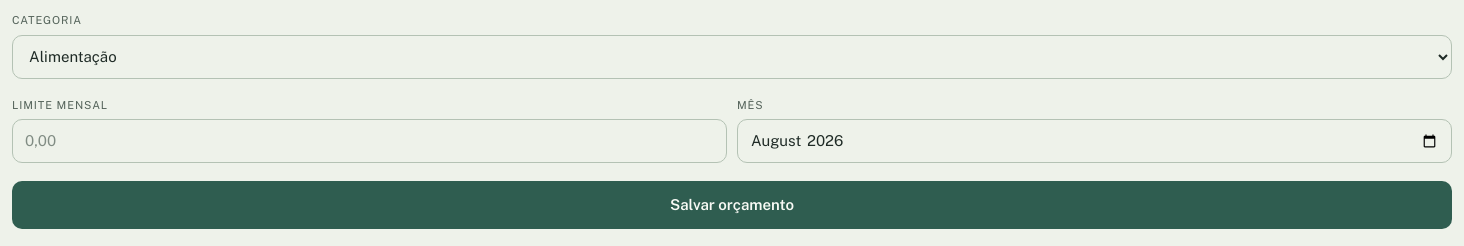
BudgetForm › defaultMonth define o mês inicial e o mês após o reset
Expected: the field labelled "Mês" holds "2026-08", [737,119,1452,163]
Type "100" into the number field labelled "Limite mensal" at (370, 141), box [12,119,727,163]
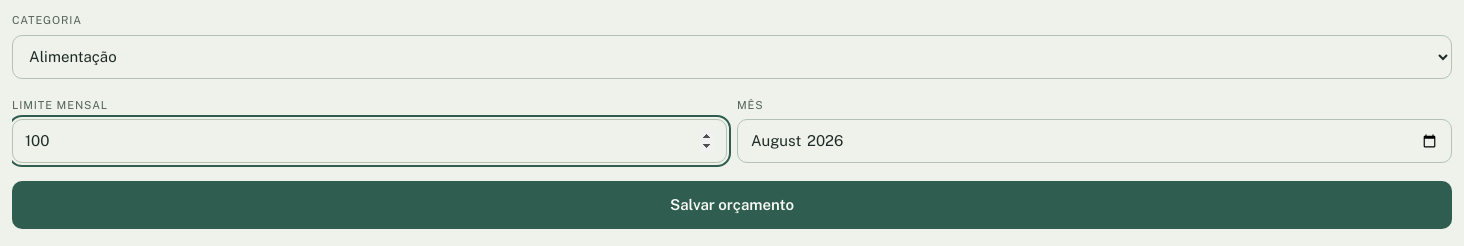
Click the button "Salvar orçamento" at (732, 205), box [12,181,1452,229]
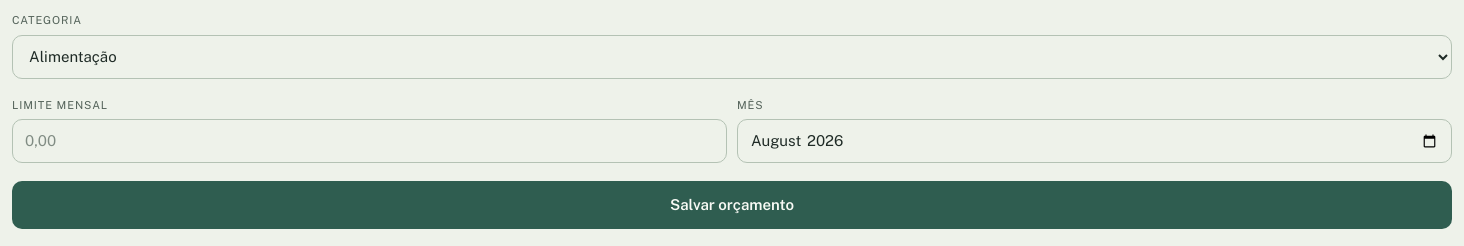
Expected: the field labelled "Mês" holds "2026-08", [737,119,1452,163]
Result: the number field labelled "Limite mensal" is not empty at [12,119,727,163]
